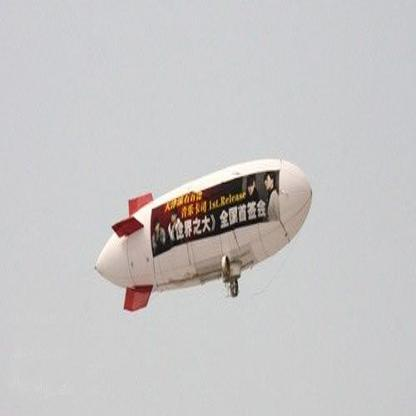Airship: (93, 157, 317, 317)
